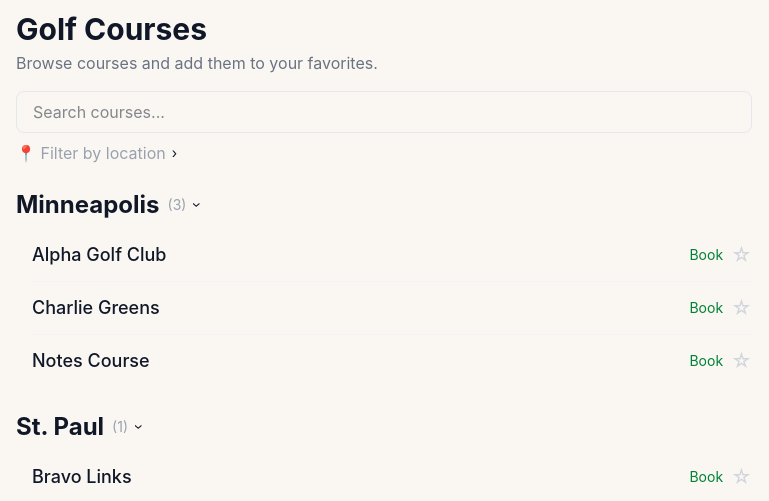
Test: CoursesPage › hides area groups with no matching courses during search
Type "bravo" into the field with placeholder "Search courses...". click: {"x": 384, "y": 112}
box: [16, 91, 752, 133]
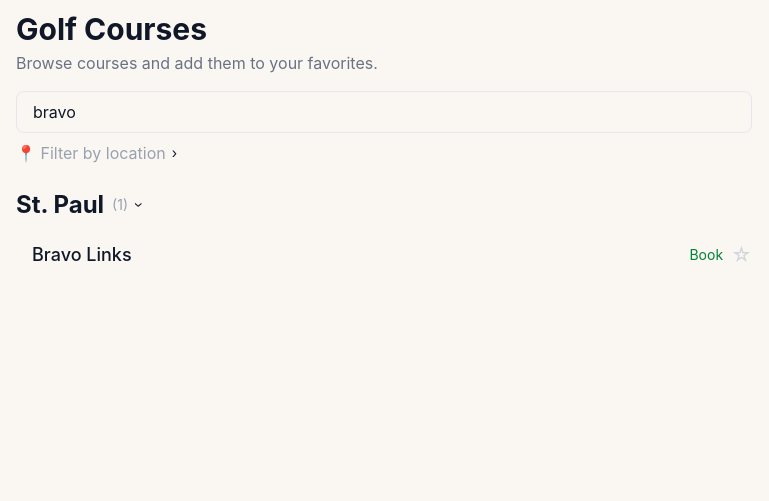
Expected: the heading "St. Paul" is shown, [16, 189, 104, 221]
Result: the button "Minneapolis" is gone
